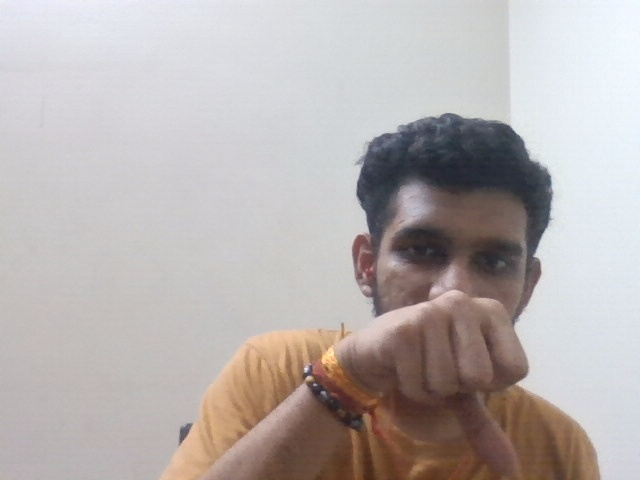yes: (358, 293, 575, 468)
